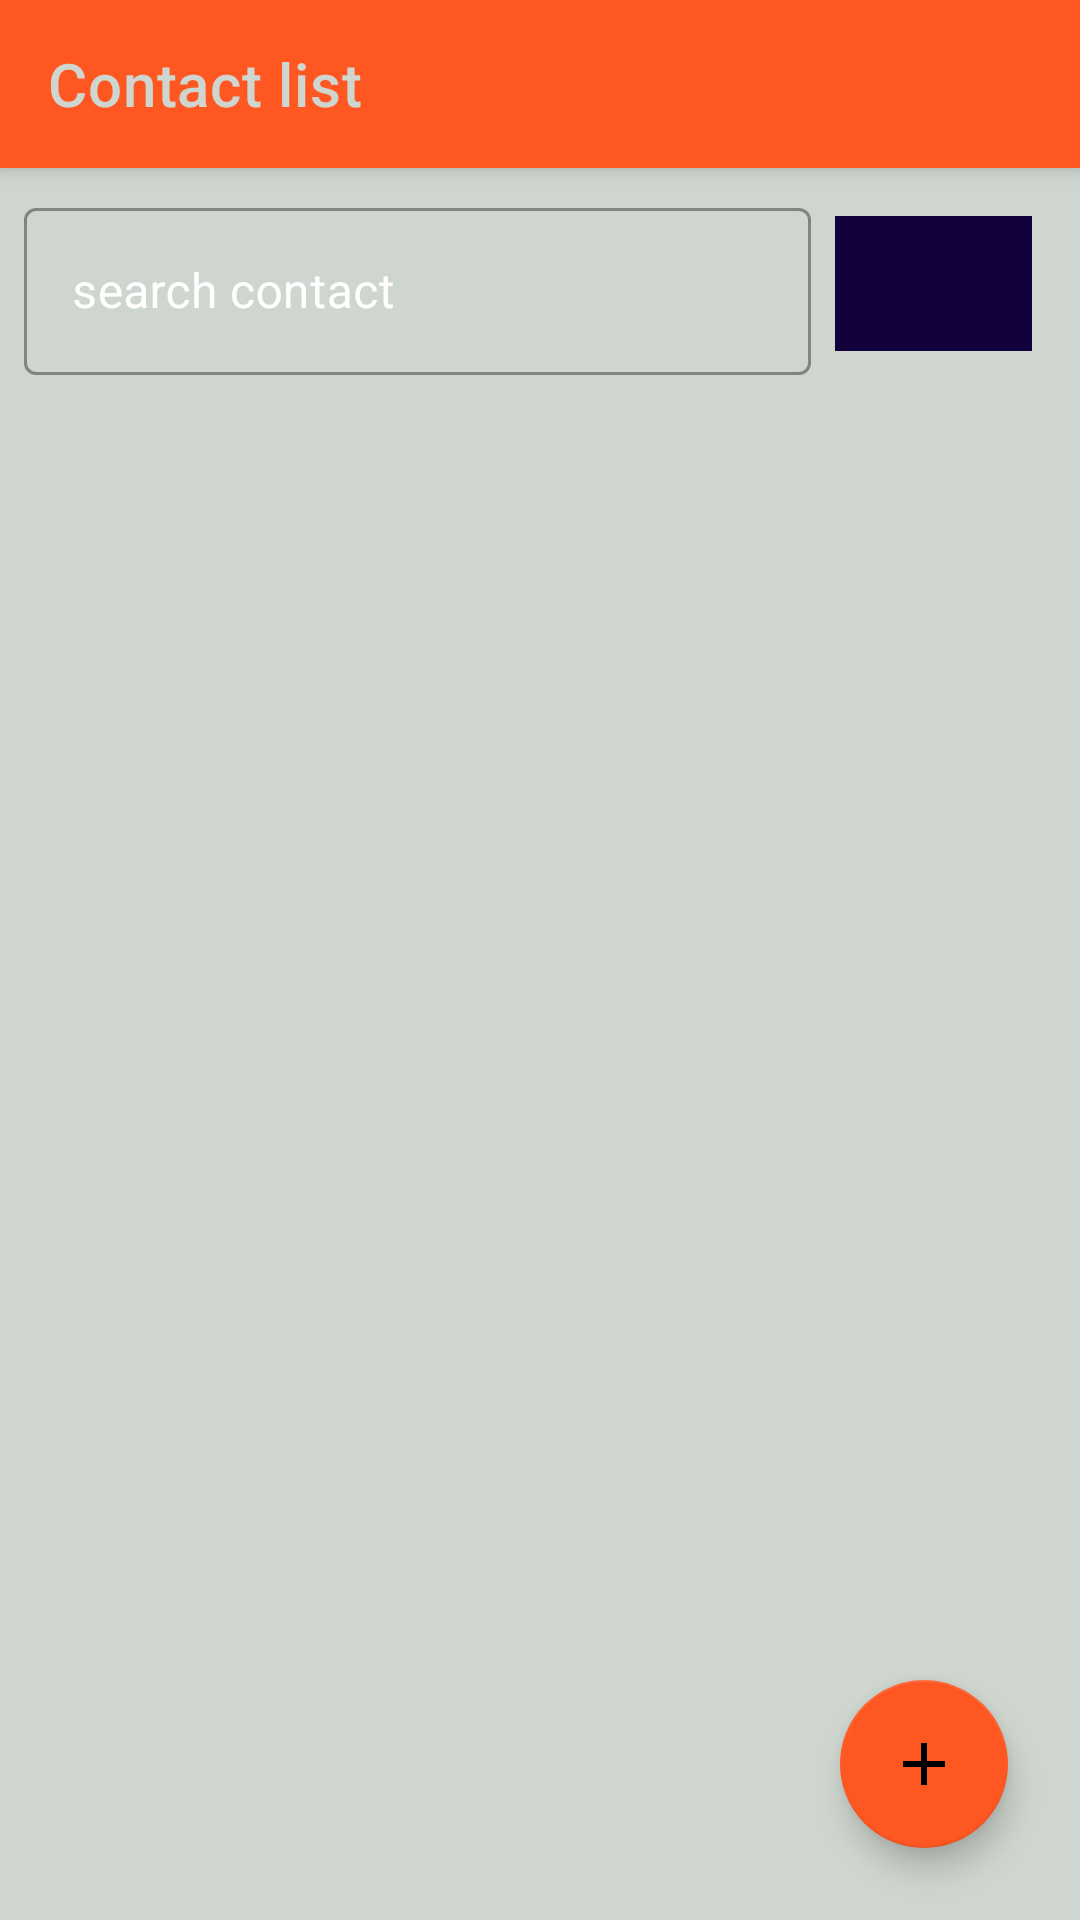

Screen size 1080px x 1920px. Icon name, then its center in pixels as point (x, y):
Add new Contact Button: point (924, 1764)
